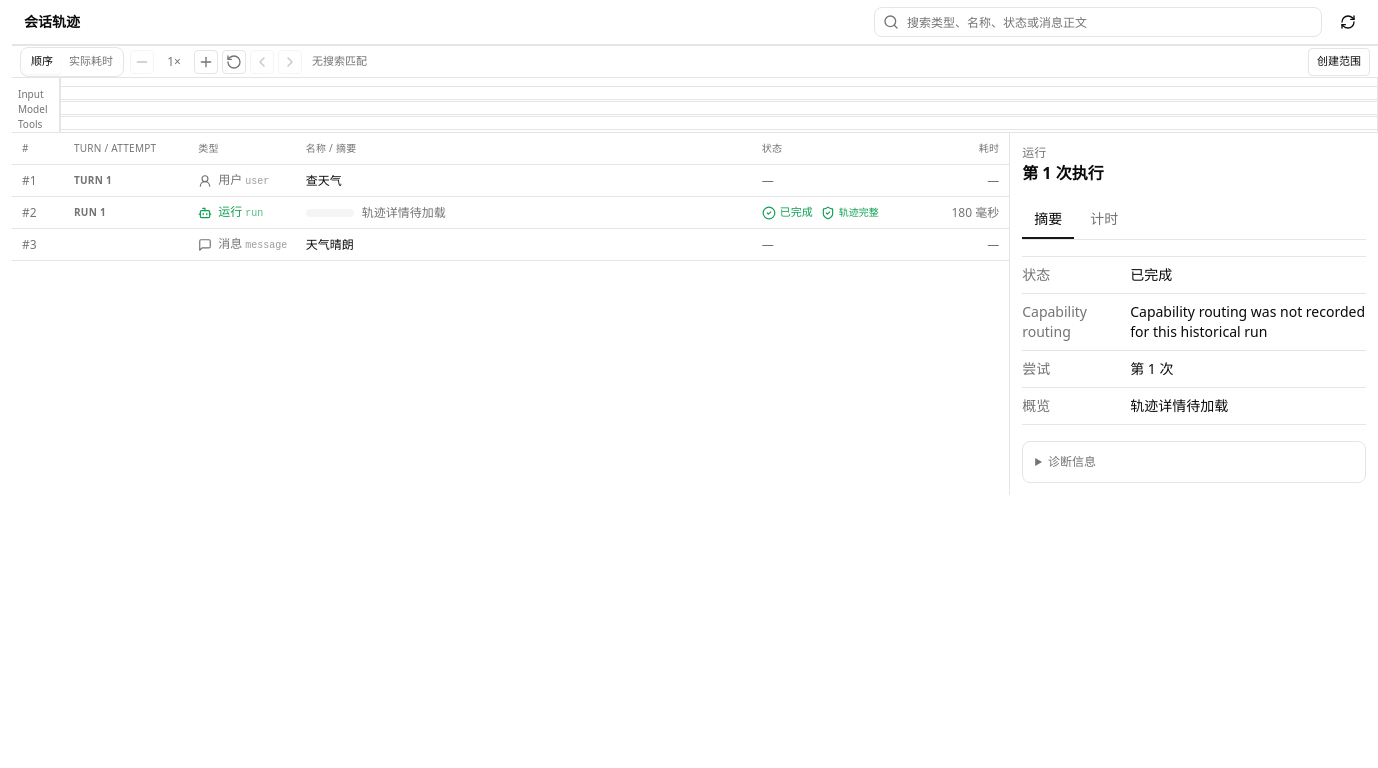
Test: TrajectoryTabView › 已有 runs 后刷新失败保留旧列表，同时展示 stale alert 并可重试刷新
Expected: the option with aria-label "第 1 次执行" is shown, left=12, top=197, right=1009, bottom=229
Click the button named "刷新轨迹运行": (1348, 22) left=1330, top=4, right=1366, bottom=40
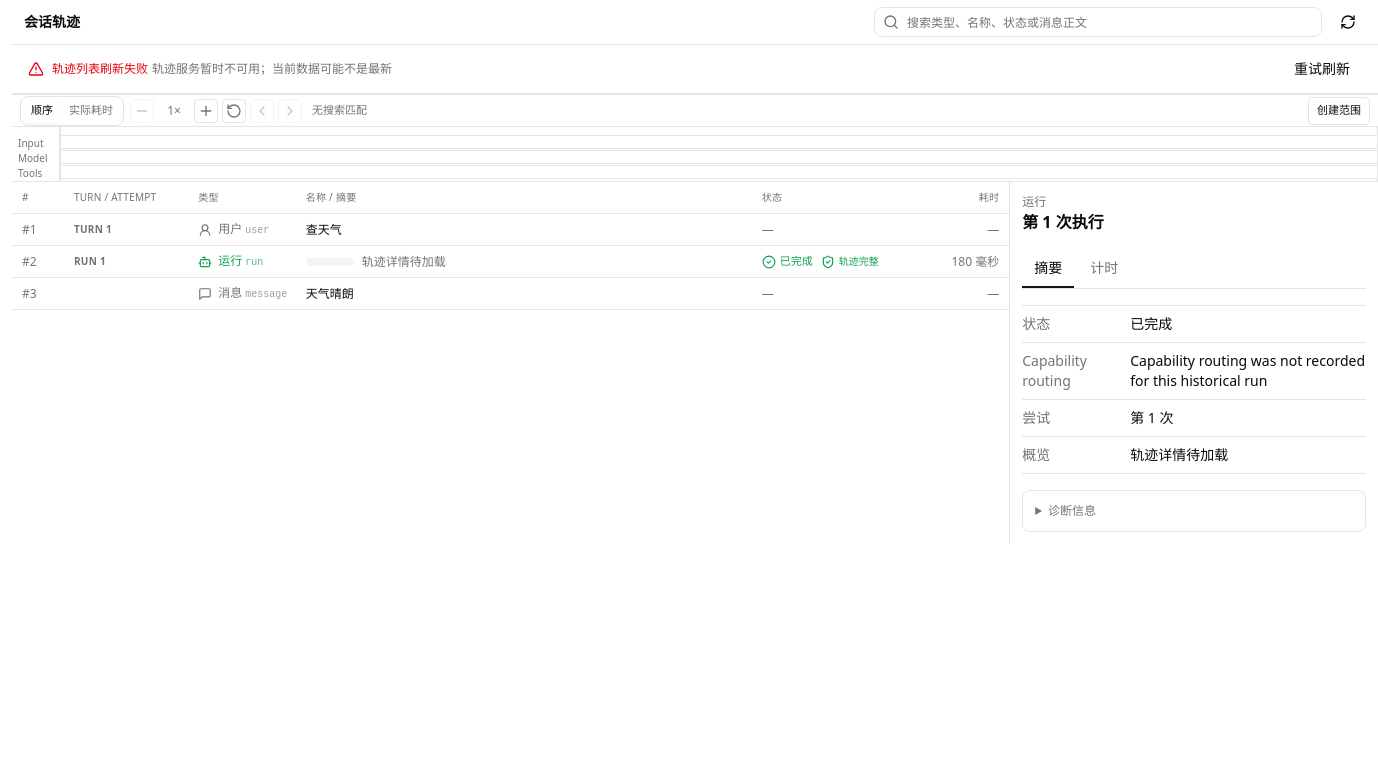
Now the message shows "轨迹列表刷新失败", box left=52, top=60, right=148, bottom=77
Now the message shows "轨迹服务暂时不可用", box left=152, top=60, right=260, bottom=77
Now the message shows "当前数据可能不是最新", box left=260, top=60, right=392, bottom=77
Click the button "重试刷新": (1322, 69) left=1282, top=53, right=1362, bottom=85
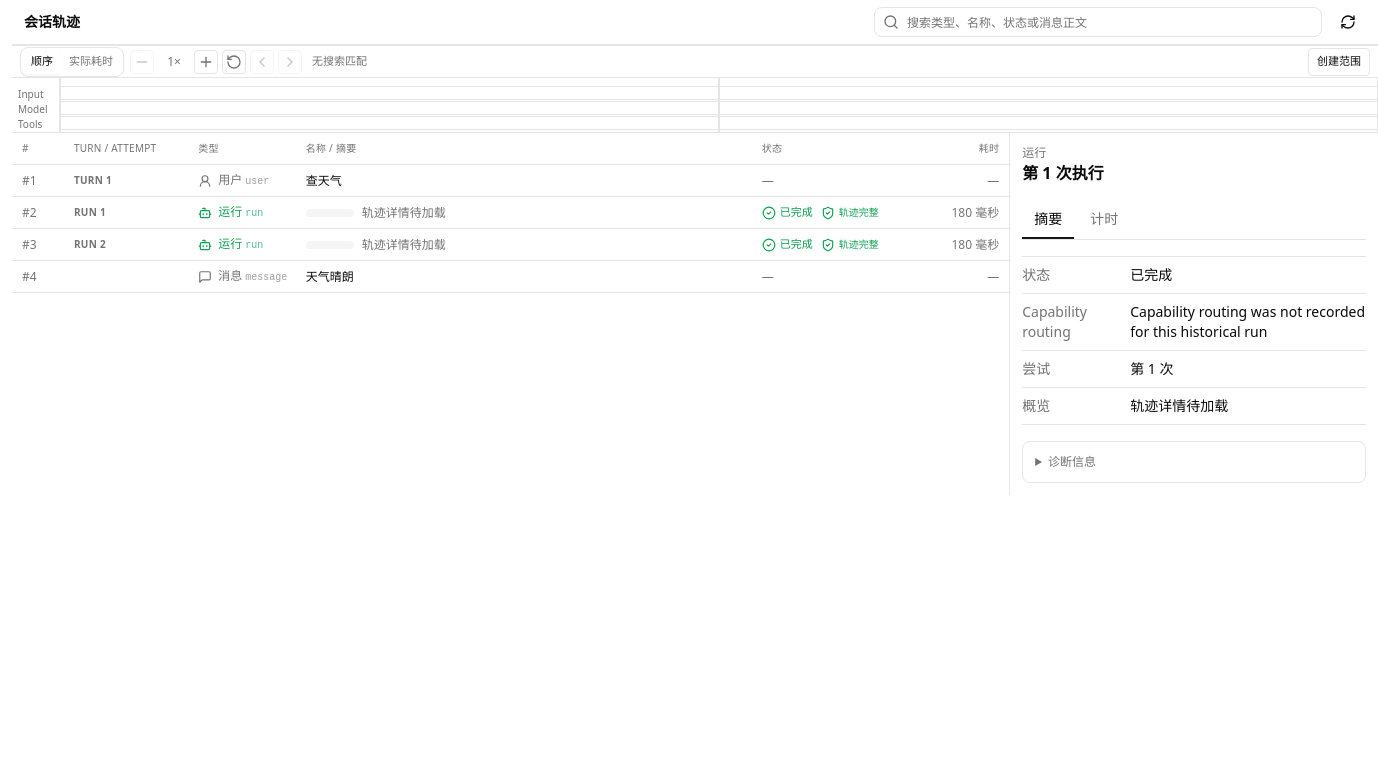
Now the option with aria-label "第 2 次执行" is shown, box left=12, top=229, right=1009, bottom=261
Now the text "当前数据可能不是最新" is gone
